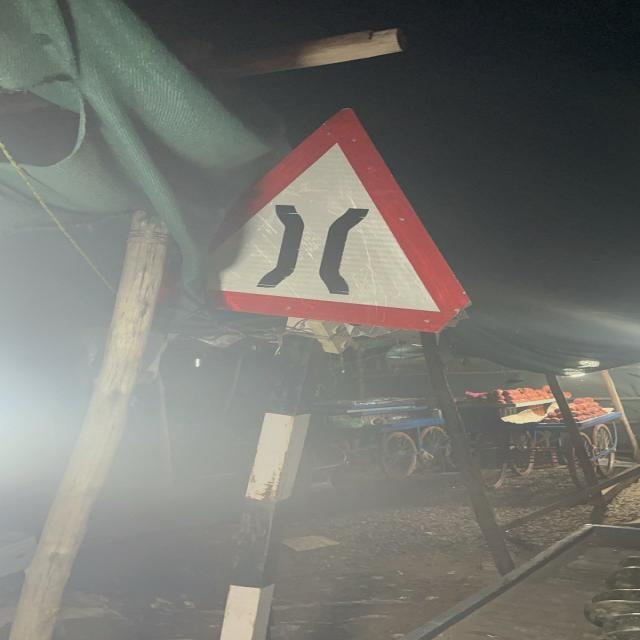Narrow_Bridge: (185, 100, 478, 328)
